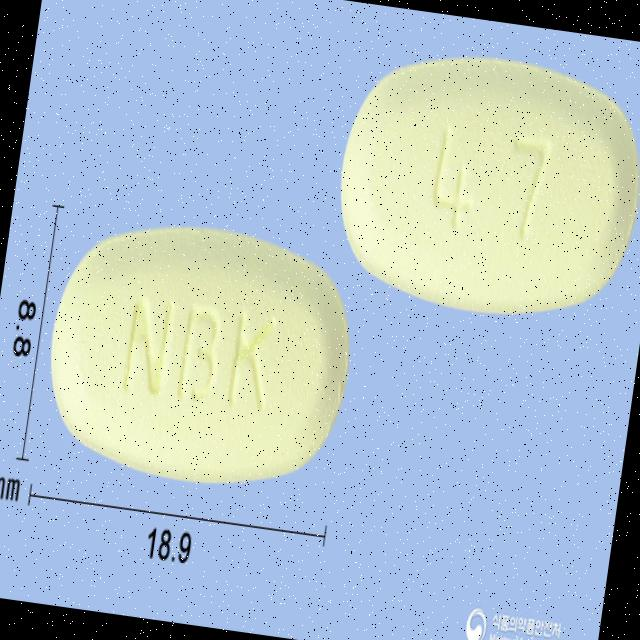Lathrocin-500mg: (34, 205, 363, 504), (327, 37, 640, 325)
